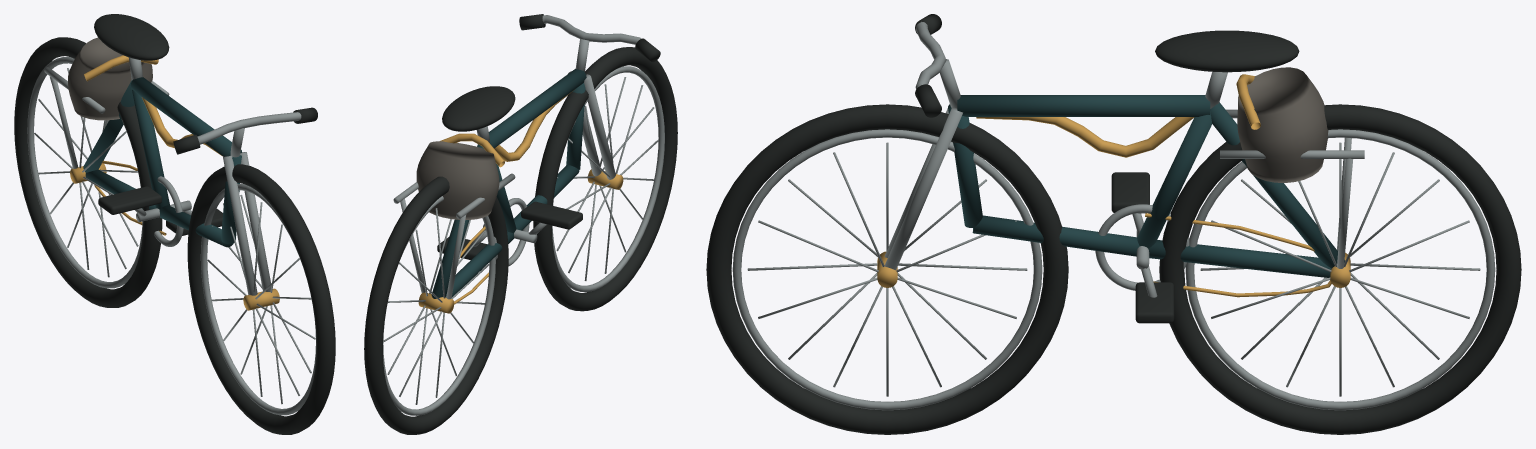
File: rival-bike.glb
3 views of the same model, side by side, from view 1: azimuth 30°, elevation 25°; view 2: azimuth 150°, elevation 25°; view 3: azimuth 270°, elevation 25° (orthographic). The views are drawn at different scales.
Visible parts, largest first — view 1: rival_bike_front_tire, rival_bike_rear_tire, rival_bike_delivery_bag, rival_bike_saddle, rival_bike_front_rim, rival_bike_rear_rim, rival_bike_frame_04, rival_bike_frame_02, rival_bike_fork_l, rival_bike_pedal_l, rival_bike_frame_01, rival_bike_fork_r (+12 smaller); view 2: rival_bike_front_tire, rival_bike_rear_tire, rival_bike_delivery_bag, rival_bike_front_rim, rival_bike_saddle, rival_bike_rear_rim, rival_bike_frame_04, rival_bike_pedal_l, rival_bike_fork_l, rival_bike_frame_00, rival_bike_frame_01, rival_bike_handlebar (+16 smaller); view 3: rival_bike_front_tire, rival_bike_rear_tire, rival_bike_delivery_bag, rival_bike_front_rim, rival_bike_rear_rim, rival_bike_frame_04, rival_bike_saddle, rival_bike_frame_00, rival_bike_frame_02, rival_bike_frame_01, rival_bike_frame_03, rival_bike_fork_r (+9 smaller).
Part boxes in pixels (bbox=[...]): rival_bike_front_tire: bbox=[187, 164, 335, 434]; rival_bike_rear_tire: bbox=[14, 37, 162, 307]; rival_bike_delivery_bag: bbox=[68, 37, 152, 120]; rival_bike_saddle: bbox=[94, 14, 169, 60]; rival_bike_front_rim: bbox=[200, 184, 316, 415]; rival_bike_rear_rim: bbox=[27, 57, 143, 288]; rival_bike_frame_04: bbox=[130, 77, 242, 156]; rival_bike_frame_02: bbox=[132, 89, 170, 209]; rival_bike_fork_l: bbox=[223, 155, 257, 295]; rival_bike_pedal_l: bbox=[98, 186, 161, 214]; rival_bike_frame_01: bbox=[83, 80, 134, 172]; rival_bike_fork_r: bbox=[240, 152, 271, 291]; rival_bike_front_tire: bbox=[533, 47, 677, 311]; rival_bike_rear_tire: bbox=[364, 176, 508, 434]; rival_bike_delivery_bag: bbox=[416, 141, 499, 219]; rival_bike_front_rim: bbox=[552, 66, 664, 291]; rival_bike_saddle: bbox=[442, 86, 515, 131]; rival_bike_rear_rim: bbox=[383, 196, 495, 415]; rival_bike_frame_04: bbox=[488, 69, 586, 148]; rival_bike_pedal_l: bbox=[521, 201, 582, 229]; rival_bike_fork_l: bbox=[584, 74, 615, 179]; rival_bike_frame_00: bbox=[445, 231, 514, 297]; rival_bike_frame_01: bbox=[431, 144, 483, 298]; rival_bike_handlebar: bbox=[542, 15, 641, 44]; rival_bike_front_tire: bbox=[706, 104, 1068, 434]; rival_bike_rear_tire: bbox=[1159, 104, 1521, 434]; rival_bike_delivery_bag: bbox=[1237, 67, 1328, 182]; rival_bike_front_rim: bbox=[732, 129, 1042, 410]; rival_bike_rear_rim: bbox=[1185, 129, 1495, 410]; rival_bike_frame_04: bbox=[957, 95, 1210, 116]; rival_bike_saddle: bbox=[1155, 30, 1299, 72]; rival_bike_frame_00: bbox=[1148, 240, 1331, 277]; rival_bike_frame_02: bbox=[1137, 111, 1212, 248]; rival_bike_frame_01: bbox=[1210, 102, 1345, 268]; rival_bike_frame_03: bbox=[972, 215, 1139, 256]; rival_bike_fork_r: bbox=[884, 107, 962, 270].
Size of the model in its own units: 0.8892 by 1.81 by 3.38.
